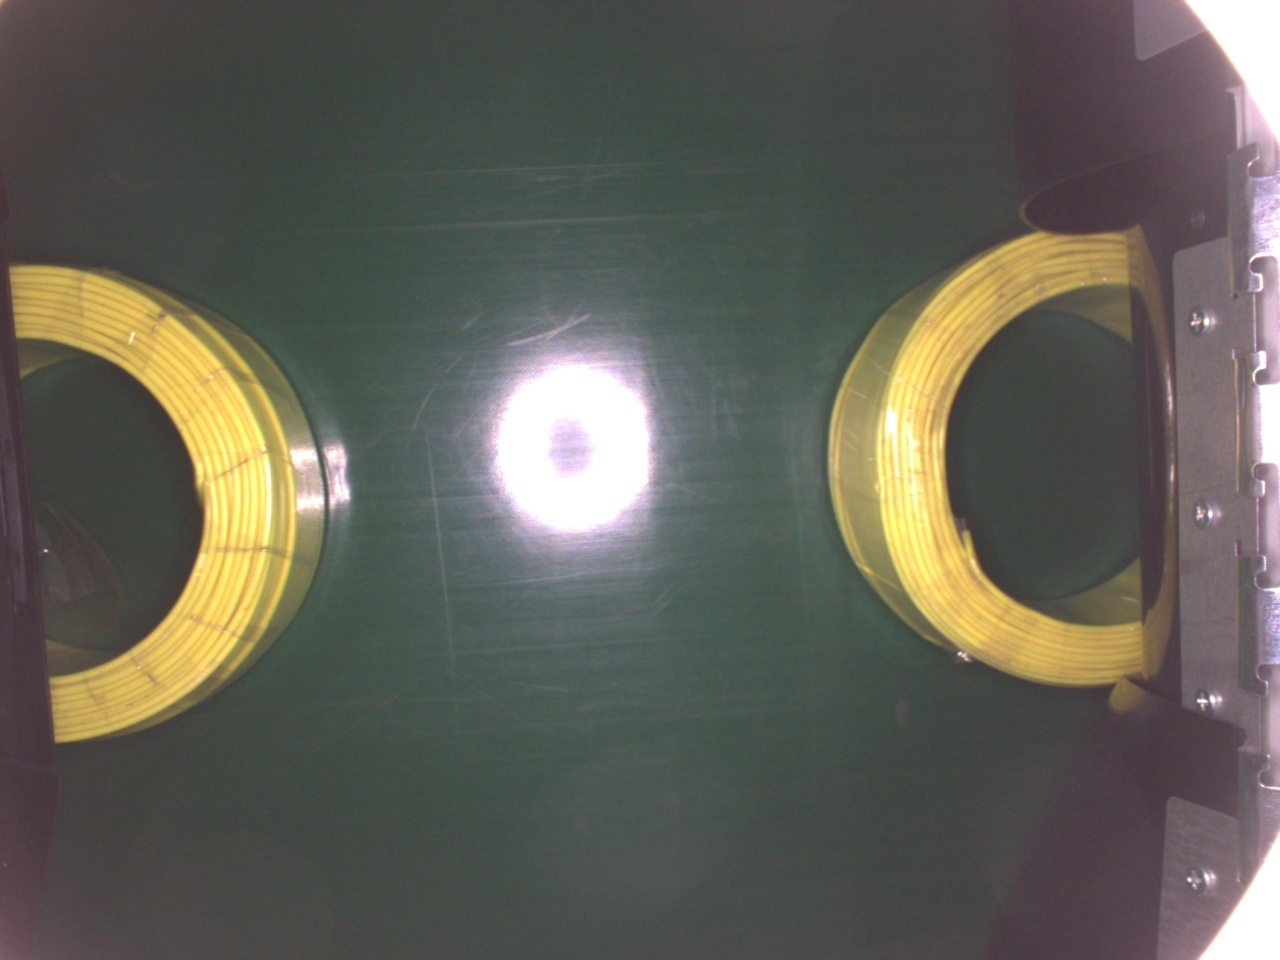yellow: (10, 253, 324, 743), (822, 220, 1144, 692)
